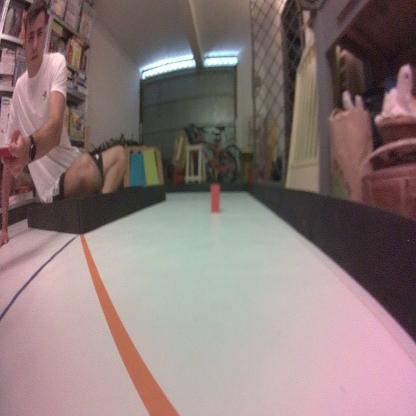red: (209, 181, 220, 213)
